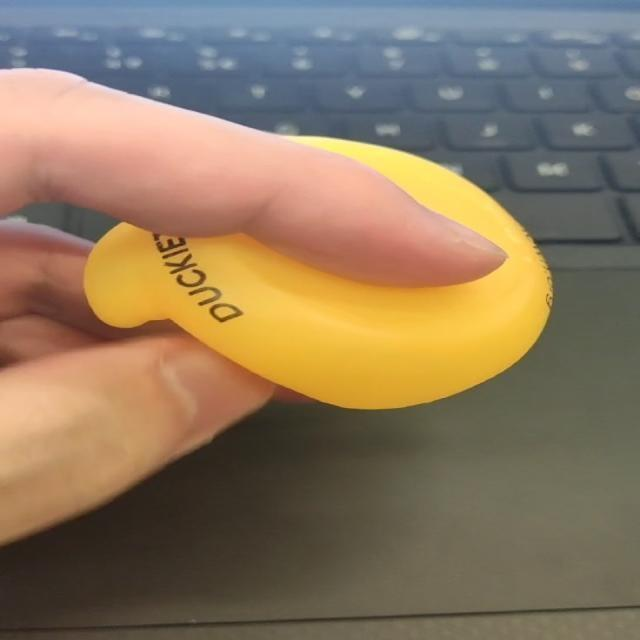rubber-duck: (83, 136, 550, 407)
